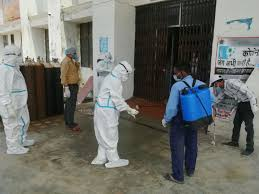Caution: (90, 59, 200, 183), (161, 62, 255, 182), (58, 49, 113, 76)
Good: (1, 44, 79, 155)
